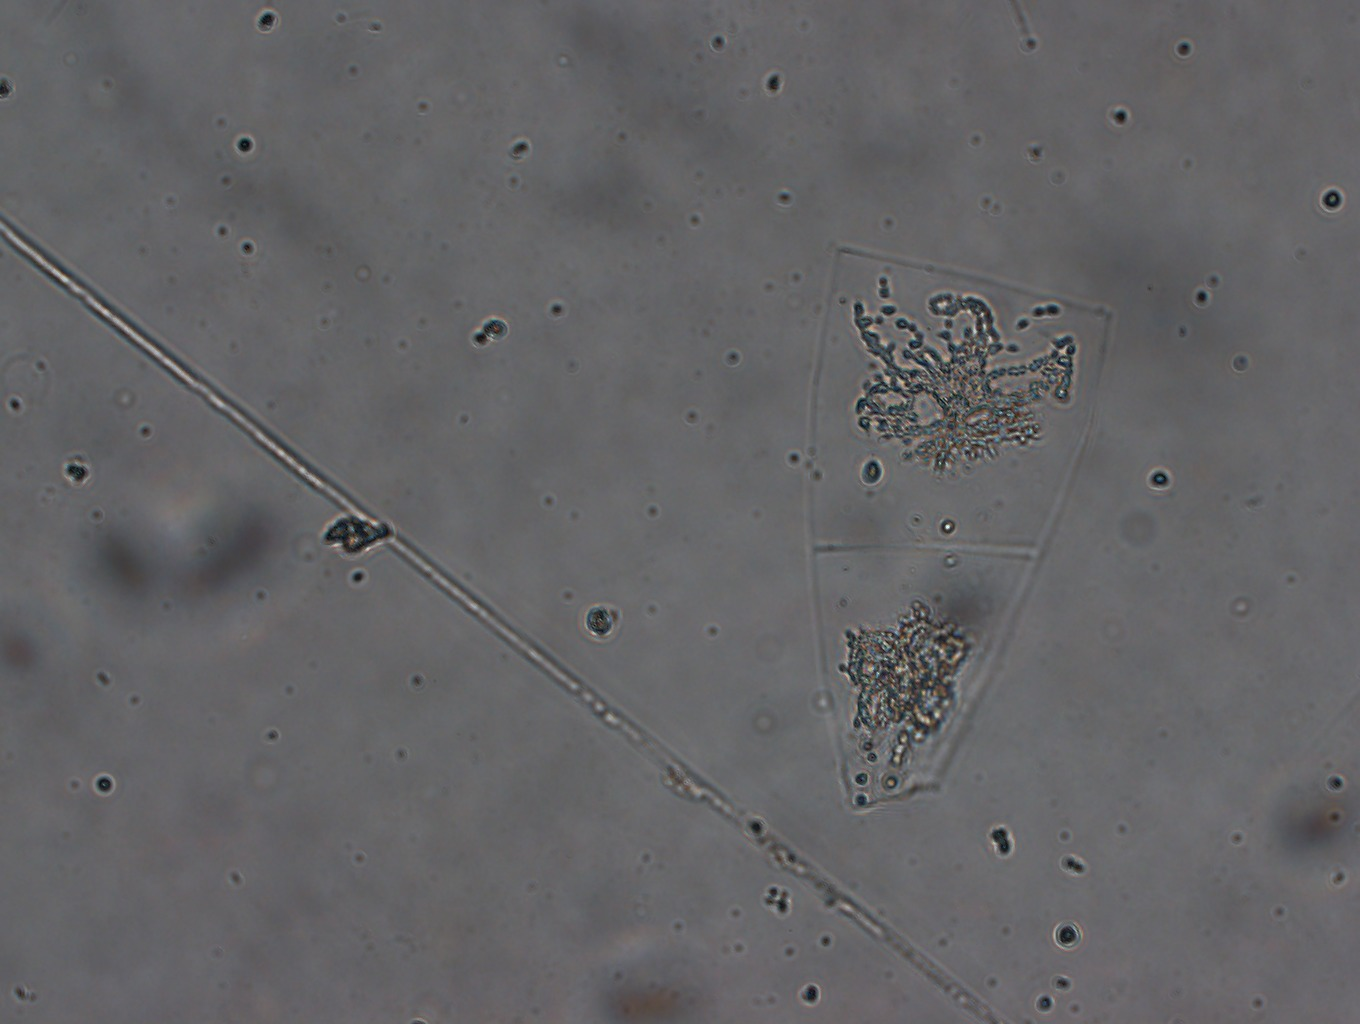helicotheca: (806, 245, 1116, 813)
